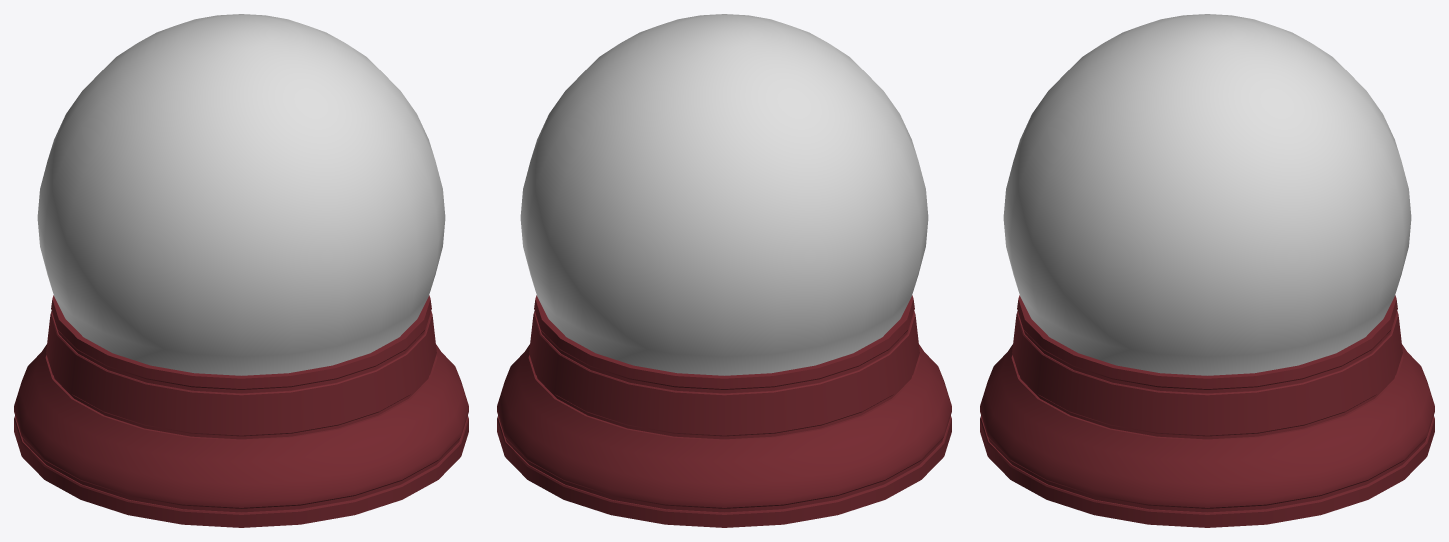
Rendered from snow_globe.fbx.
3 views of the same model, side by side, from view 1: azimuth 30°, elevation 25°; view 2: azimuth 150°, elevation 25°; view 3: azimuth 270°, elevation 25° (orthographic).
Parts seen in each view (by area): view 1: snow_globe_mesh; view 2: snow_globe_mesh; view 3: snow_globe_mesh.
Boxes of the visible parts, x1,y1,x2,y2 form: snow_globe_mesh: (14, 14, 468, 527); snow_globe_mesh: (497, 14, 951, 527); snow_globe_mesh: (980, 14, 1434, 527).
Size of the model in its own units: 68.67 by 66.42 by 68.67.
